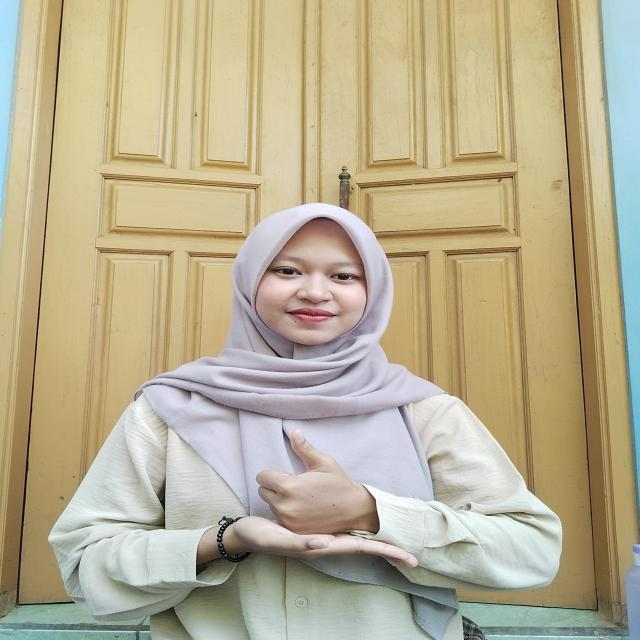cantik: (183, 403, 428, 588)
